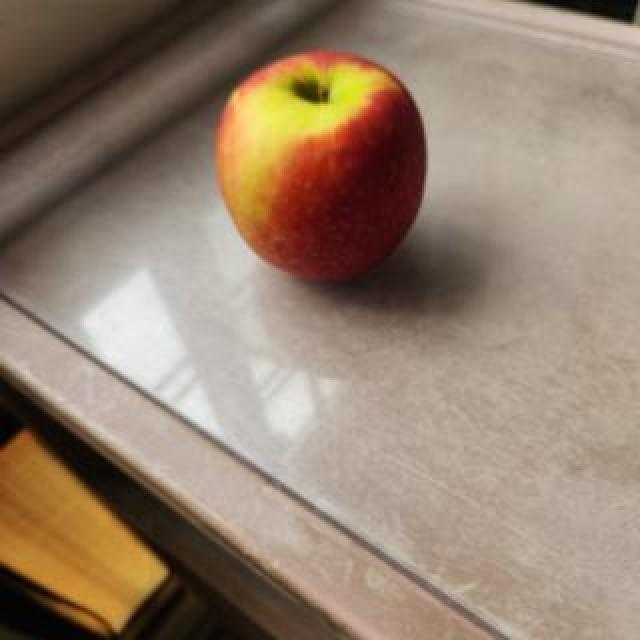Fresh Apple: (227, 58, 420, 266)
